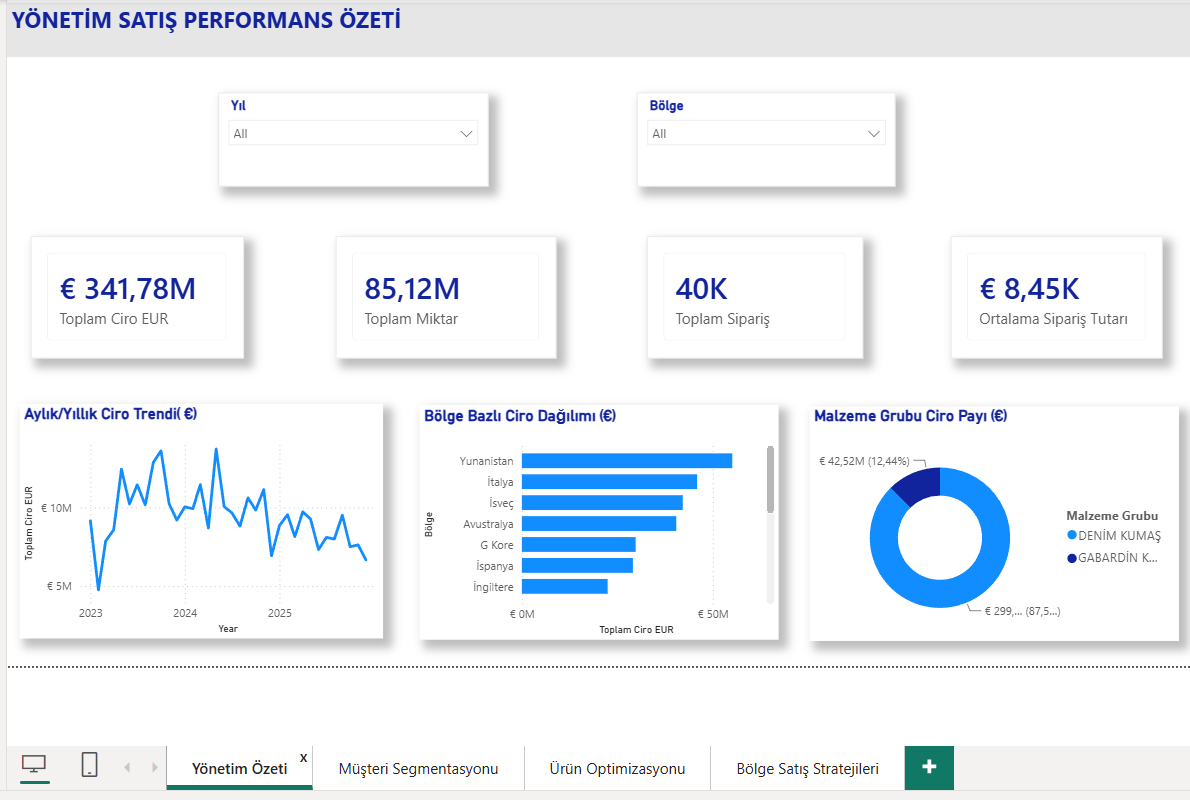

The page's visual inventory and layout, read from the dashboard file:
{"tool":"powerbi","page":{"name":"Yönetim Özeti","canvas":[1280,720],"ordinal":0},"visuals":[{"type":"slicer","fields":{"Values":["Satış Verileri.Faturalama Tarihi.Variation.Date Hierarchy.Year"]},"box":[228.2,99.9,291.7,101.3],"z":0},{"type":"slicer","fields":{"Values":["Satış Verileri.Bölge"]},"box":[680.7,99.9,279.6,101.3],"z":1},{"type":"cardVisual","fields":{"Data":["Satış Verileri.Toplam Ciro EUR"]},"box":[26.1,255.2,230.5,131.7],"z":2},{"type":"cardVisual","fields":{"Data":["Satış Verileri.Toplam Miktar"]},"box":[354.9,255.2,238.8,131.7],"z":3},{"type":"cardVisual","fields":{"Data":["Satış Verileri.Toplam Sipariş"]},"box":[692.1,255.2,233.3,131.7],"z":4},{"type":"cardVisual","fields":{"Data":["Satış Verileri.Ortalama Sipariş Tutarı"]},"box":[1019.6,255.2,229.2,131.7],"z":5},{"type":"lineChart","title":"Aylık/Yıllık Ciro Trendi( €)","fields":{"Category":["Satış Verileri.Faturalama Tarihi.Variation.Date Hierarchy.Year","Satış Verileri.Faturalama Tarihi.Variation.Date Hierarchy.Month"],"Y":["Satış Verileri.Toplam Ciro EUR"]},"box":[13.7,436.4,392.5,253.9],"z":6},{"type":"clusteredBarChart","title":"Bölge Bazlı Ciro Dağılımı (€)","fields":{"Category":["Satış Verileri.Bölge"],"Y":["Satış Verileri.Toplam Ciro EUR"]},"box":[446,437.7,388.3,253.9],"z":7},{"type":"donutChart","title":"Malzeme Grubu Ciro Payı (€)","fields":{"Category":["Ürün Detay.Malzeme Grubu"],"Y":["Satış Verileri.Toplam Ciro EUR"]},"box":[867.2,439.1,399.3,253.9],"z":8},{"type":"shape","box":[0,2.7,1280.3,59],"z":9},{"type":"textbox","box":[0,0,1280.3,48.6],"z":10}]}

Visuals, with their boxes on the page's 1280x720 design canvas (x1, y1, x2, y2). These are canvas units, not pixel positions in the 1190x800 screenshot, which may show the page scaled, cropped or inside an application window:
slicer - Satış Verileri.Faturalama Tarihi.Variation.Date Hierarchy.Year: Rect(228, 100, 520, 201)
slicer - Satış Verileri.Bölge: Rect(681, 100, 960, 201)
cardVisual - Satış Verileri.Toplam Ciro EUR: Rect(26, 255, 257, 387)
cardVisual - Satış Verileri.Toplam Miktar: Rect(355, 255, 594, 387)
cardVisual - Satış Verileri.Toplam Sipariş: Rect(692, 255, 925, 387)
cardVisual - Satış Verileri.Ortalama Sipariş Tutarı: Rect(1020, 255, 1249, 387)
"Aylık/Yıllık Ciro Trendi( €)" lineChart: Rect(14, 436, 406, 690)
"Bölge Bazlı Ciro Dağılımı (€)" clusteredBarChart: Rect(446, 438, 834, 692)
"Malzeme Grubu Ciro Payı (€)" donutChart: Rect(867, 439, 1266, 693)
shape: Rect(0, 3, 1280, 62)
textbox: Rect(0, 0, 1280, 49)
